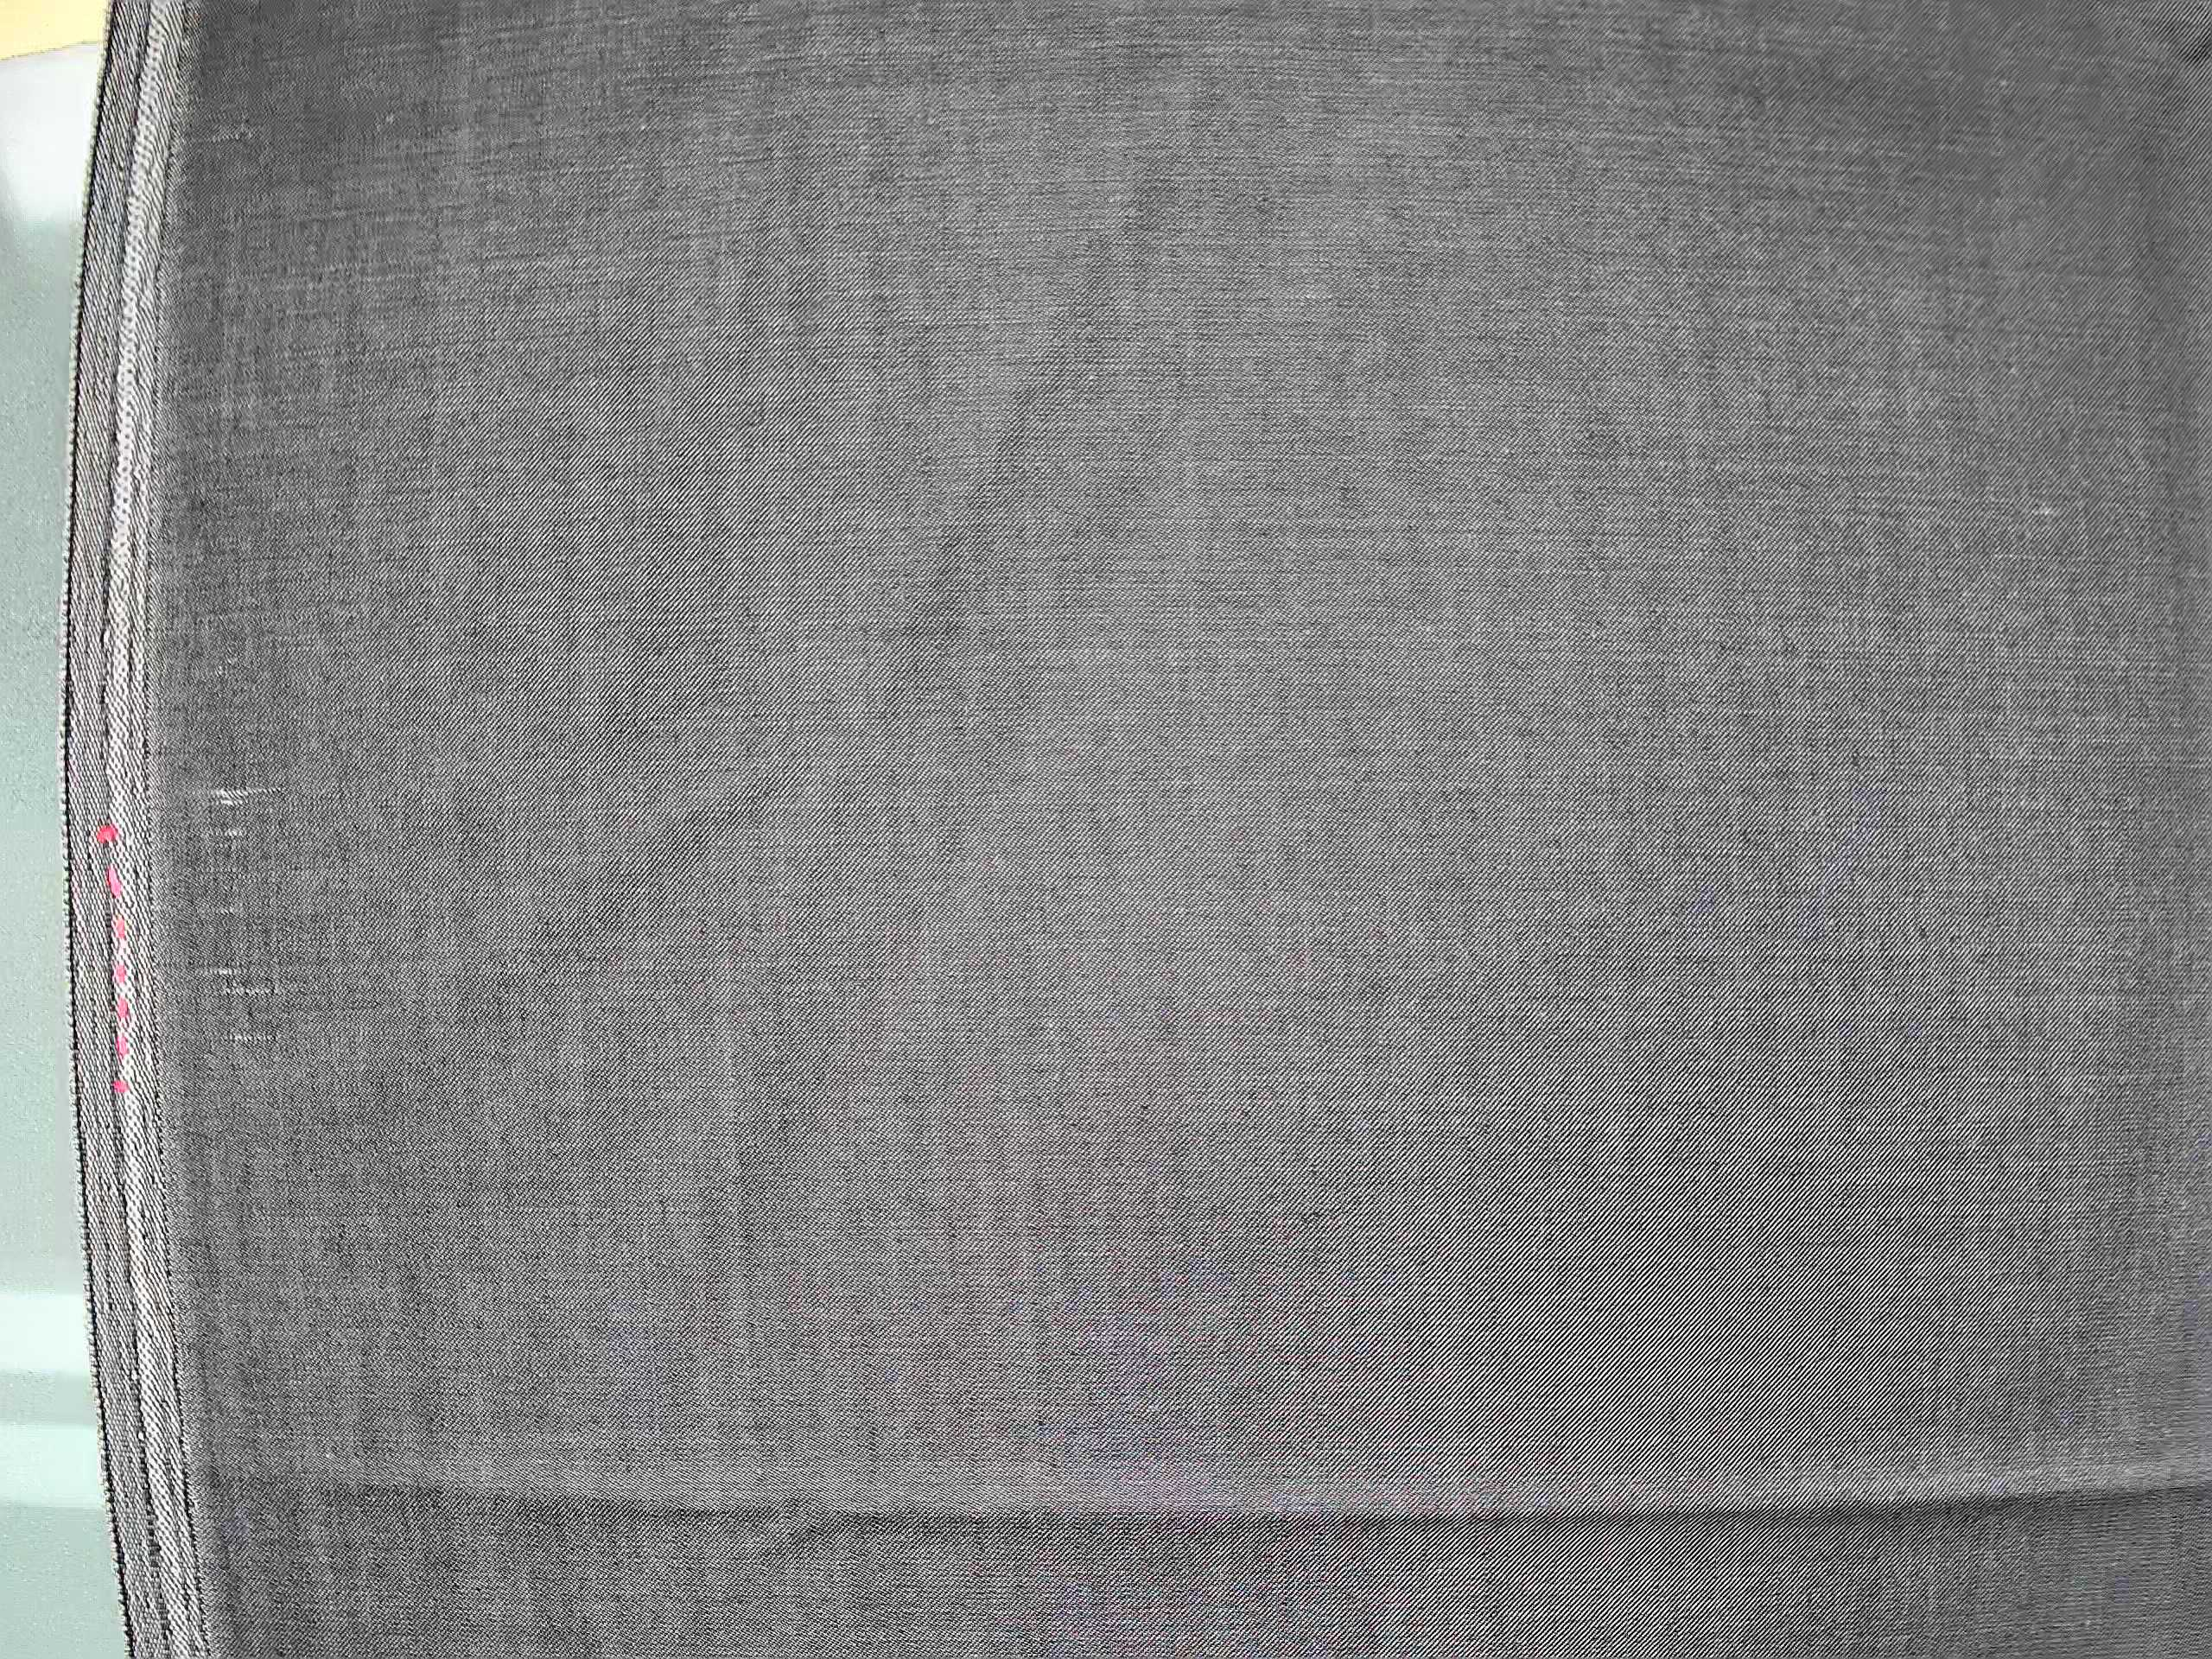jumps: (179, 721, 326, 1108)
